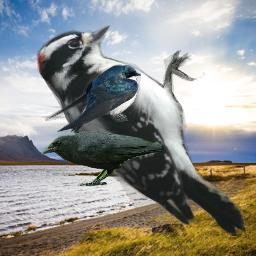Crow: (41, 131, 162, 188)
Swallow: (45, 64, 141, 133)
Woodpecker: (37, 25, 246, 236)
